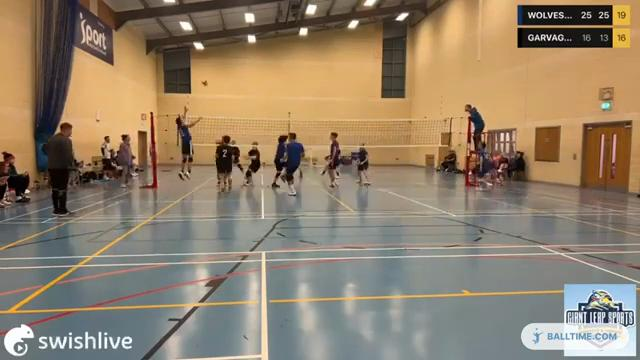attacco: (172, 105, 205, 183)
